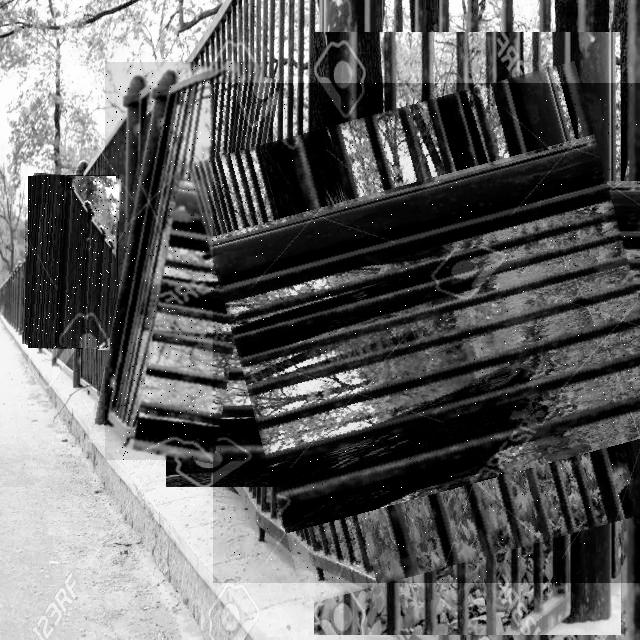anomaly-fence: (105, 62, 264, 460)
fences: (213, 83, 640, 583), (25, 175, 119, 349)
